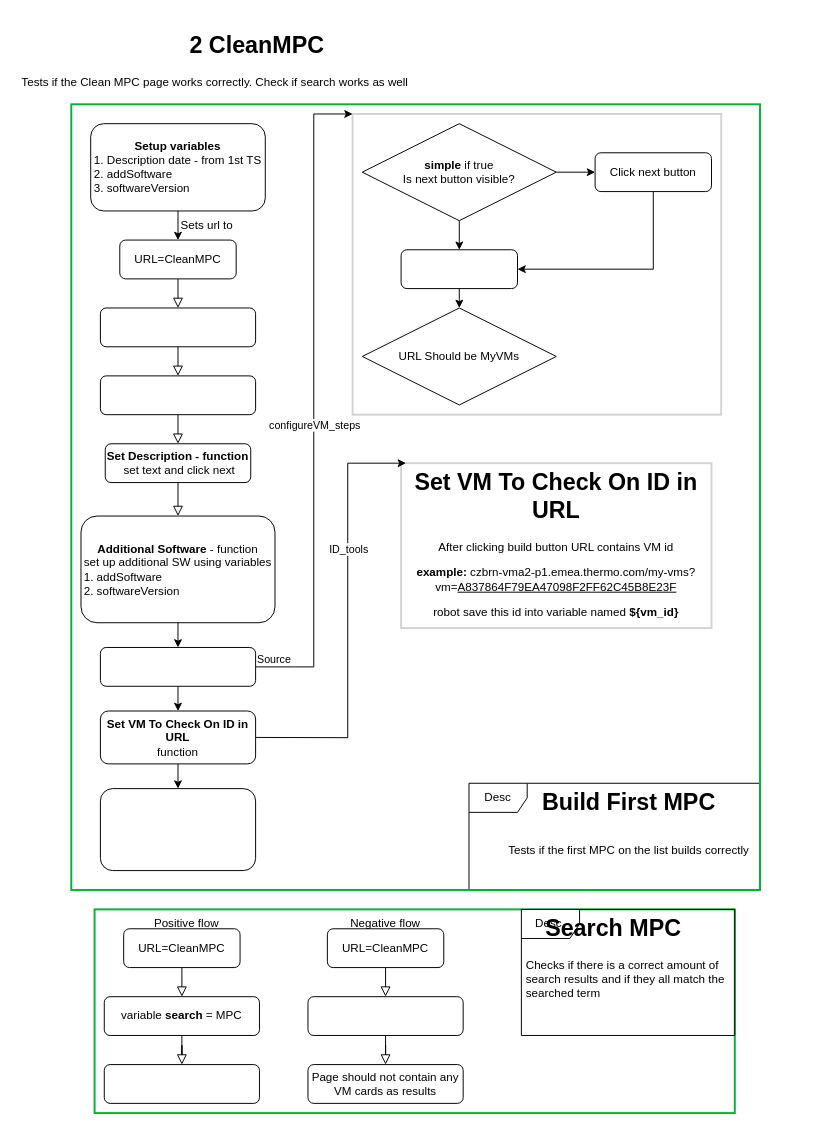
Some shapes in this 828 by 1130 pixel diagram are drawn without their labels. Here are the shapes that lost their labels. From the top down, the centre of each, then its label:
At [458,269]: "Click build button".
At [177,327]: "Click 1stMPC stored in (setup variables)".
At [177,395]: "Get expiration using current date and setted hours".
At [177,666]: "Build function".
At [177,829]: "Check if VM is Correct function send variables as list to check".
At [385,1015]: "variable search = :)".
At [181,1083]: "Page should contain search+string string = 12.x-".
